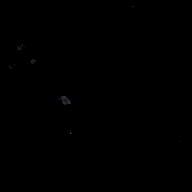v: (7, 41, 37, 70)
